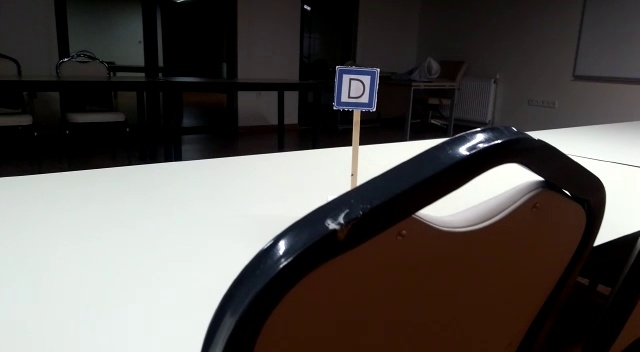durak: (333, 68, 380, 110)
